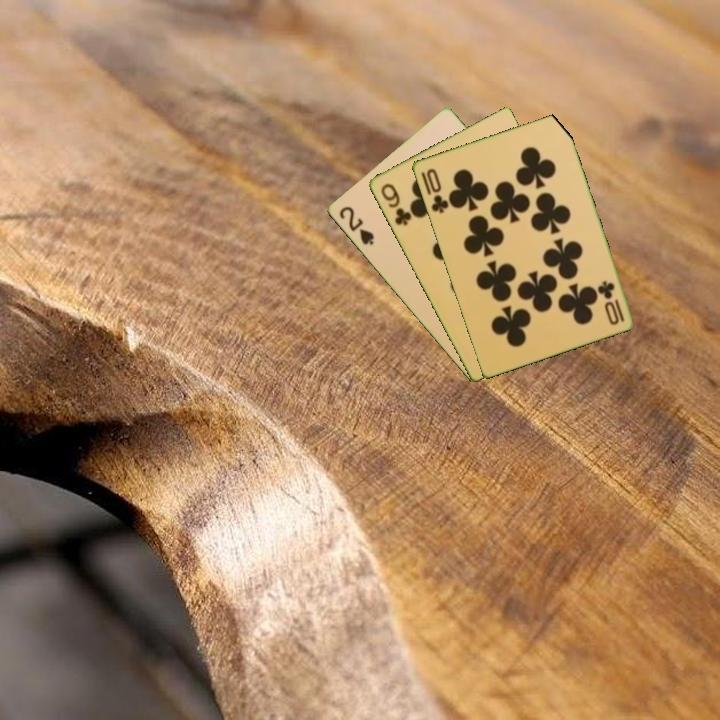10c: (594, 277, 627, 325), (422, 165, 451, 216)
2s: (335, 203, 376, 248)
9c: (377, 180, 414, 228)
